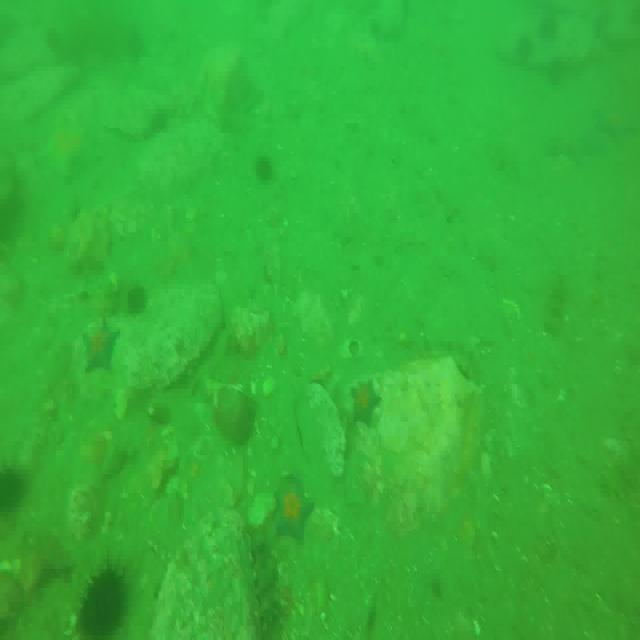echinus: (81, 558, 125, 640), (0, 468, 29, 512), (255, 152, 278, 186), (124, 280, 146, 308)
holothurian: (249, 537, 286, 640)
starfish: (275, 477, 314, 545), (84, 316, 120, 374), (350, 379, 380, 424)
